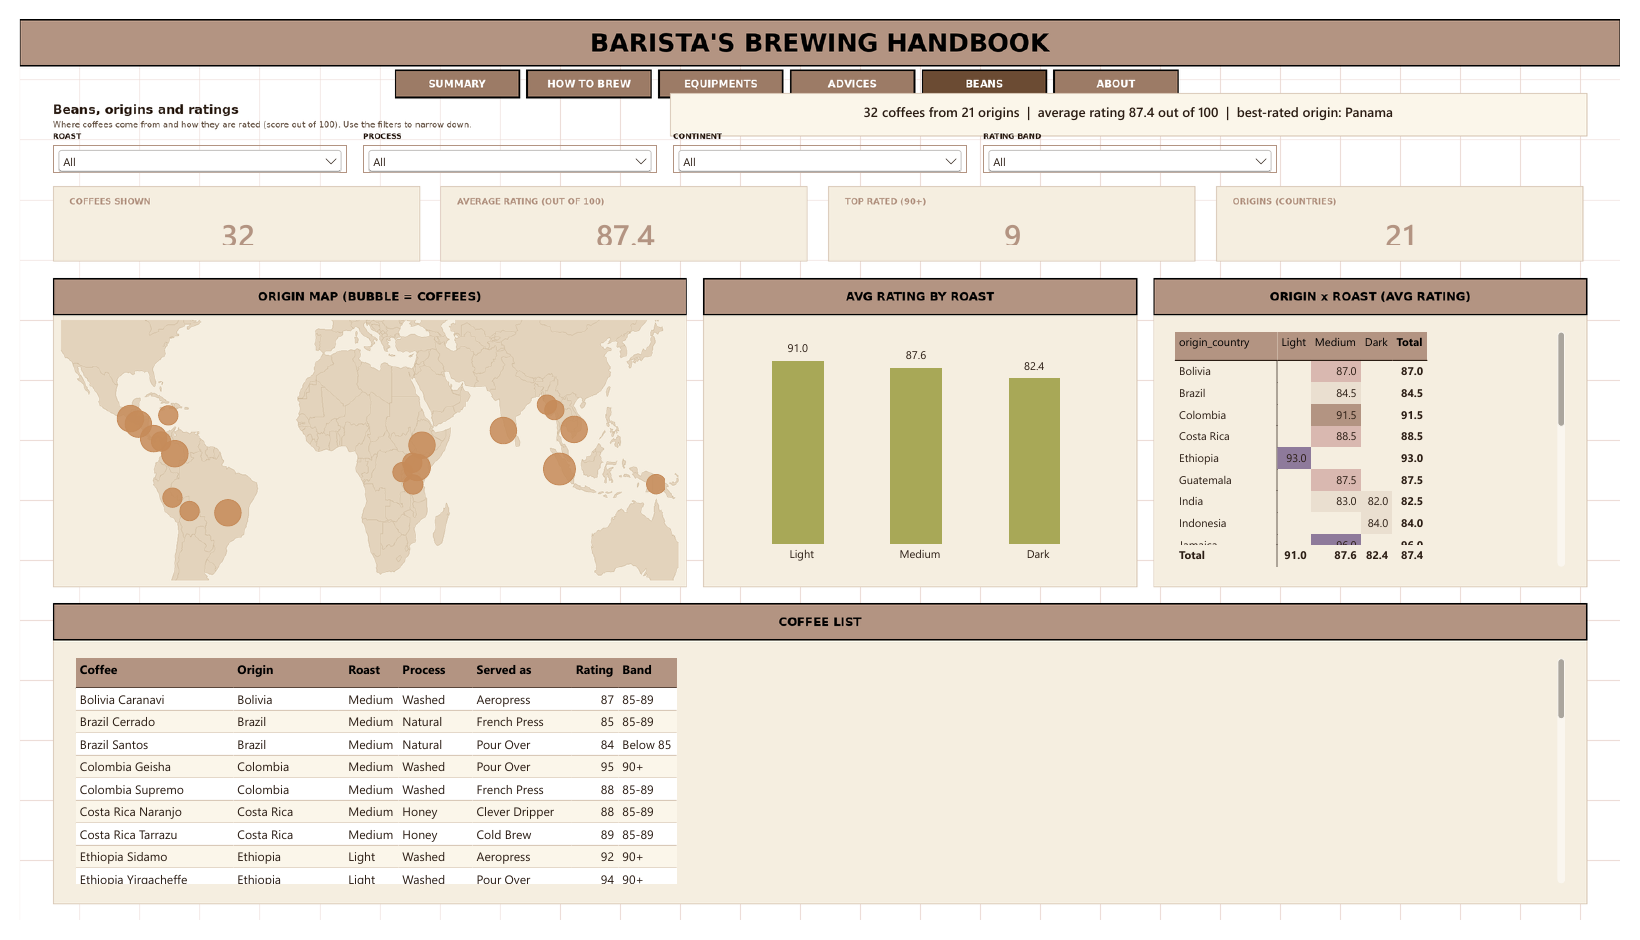

Layout of this report page (visuals, bound fields, positions):
{"tool":"powerbi","page":{"name":"Beans","canvas":[1920,1080],"ordinal":4},"visuals":[{"type":"card","fields":{"Values":["fact_coffee_rating.Insight Beans"]},"box":[786,88,1088,52],"z":1700},{"type":"card","fields":{"Values":["fact_coffee_rating.Coffees"]},"box":[52,232,420,54],"z":1710},{"type":"card","fields":{"Values":["fact_coffee_rating.Avg Rating"]},"box":[517,232,420,54],"z":1720},{"type":"card","fields":{"Values":["fact_coffee_rating.Top Rated"]},"box":[982,232,420,54],"z":1730},{"type":"card","fields":{"Values":["fact_coffee_rating.Origins"]},"box":[1447,232,420,54],"z":1740},{"type":"scatterChart","fields":{"Category":["dim_origin.origin_country"],"X":["fact_coffee_rating.Bean Lon"],"Y":["fact_coffee_rating.Bean Lat"],"Size":["fact_coffee_rating.Coffees"]},"box":[50,360,740,312],"z":1750},{"type":"columnChart","fields":{"Category":["dim_roast.roast_level"],"Y":["fact_coffee_rating.Avg Rating"]},"box":[830,360,500,312],"z":1760},{"type":"pivotTable","fields":{"Rows":["dim_origin.origin_country"],"Columns":["dim_roast.roast_level"],"Values":["fact_coffee_rating.Avg Rating"]},"box":[1370,360,500,312],"z":1770},{"type":"tableEx","fields":{"Values":["dim_coffee.coffee_name","dim_origin.origin_country","dim_roast.roast_level","dim_process.processing_method","fact_coffee_rating.served_brew_method","fact_coffee_rating.rating","fact_coffee_rating.rating_band"]},"box":[50,752,1820,300],"z":1780},{"type":"slicer","fields":{"Values":["dim_roast.roast_level"]},"box":[40,150,352,34],"z":7065},{"type":"slicer","fields":{"Values":["dim_process.processing_method"]},"box":[412,150,352,34],"z":7066},{"type":"slicer","fields":{"Values":["dim_origin.continent"]},"box":[784,150,352,34],"z":7067},{"type":"slicer","fields":{"Values":["fact_coffee_rating.rating_band"]},"box":[1156,150,352,34],"z":7068},{"type":"actionButton","box":[450,60,150,34],"z":9078},{"type":"actionButton","box":[608,60,150,34],"z":9079},{"type":"actionButton","box":[766,60,150,34],"z":9080},{"type":"actionButton","box":[924,60,150,34],"z":9081},{"type":"actionButton","box":[1082,60,150,34],"z":9082},{"type":"actionButton","box":[1240,60,150,34],"z":9083}]}

Visuals, with their boxes in screenshot pixels (x1, y1, x2, y2), scaled from the page's 1920x1080 canvas onto the 1640x940 screenshot:
card - fact_coffee_rating.Insight Beans: 671, 77, 1601, 122
card - fact_coffee_rating.Coffees: 44, 202, 403, 249
card - fact_coffee_rating.Avg Rating: 442, 202, 800, 249
card - fact_coffee_rating.Top Rated: 839, 202, 1198, 249
card - fact_coffee_rating.Origins: 1236, 202, 1595, 249
scatterChart - dim_origin.origin_country x fact_coffee_rating.Bean Lon: 43, 313, 675, 585
columnChart - dim_roast.roast_level x fact_coffee_rating.Avg Rating: 709, 313, 1136, 585
pivotTable - dim_origin.origin_country x dim_roast.roast_level: 1170, 313, 1597, 585
tableEx - dim_coffee.coffee_name x dim_origin.origin_country: 43, 655, 1597, 916
slicer - dim_roast.roast_level: 34, 131, 335, 160
slicer - dim_process.processing_method: 352, 131, 653, 160
slicer - dim_origin.continent: 670, 131, 970, 160
slicer - fact_coffee_rating.rating_band: 987, 131, 1288, 160
actionButton: 384, 52, 512, 82
actionButton: 519, 52, 647, 82
actionButton: 654, 52, 782, 82
actionButton: 789, 52, 917, 82
actionButton: 924, 52, 1052, 82
actionButton: 1059, 52, 1187, 82
